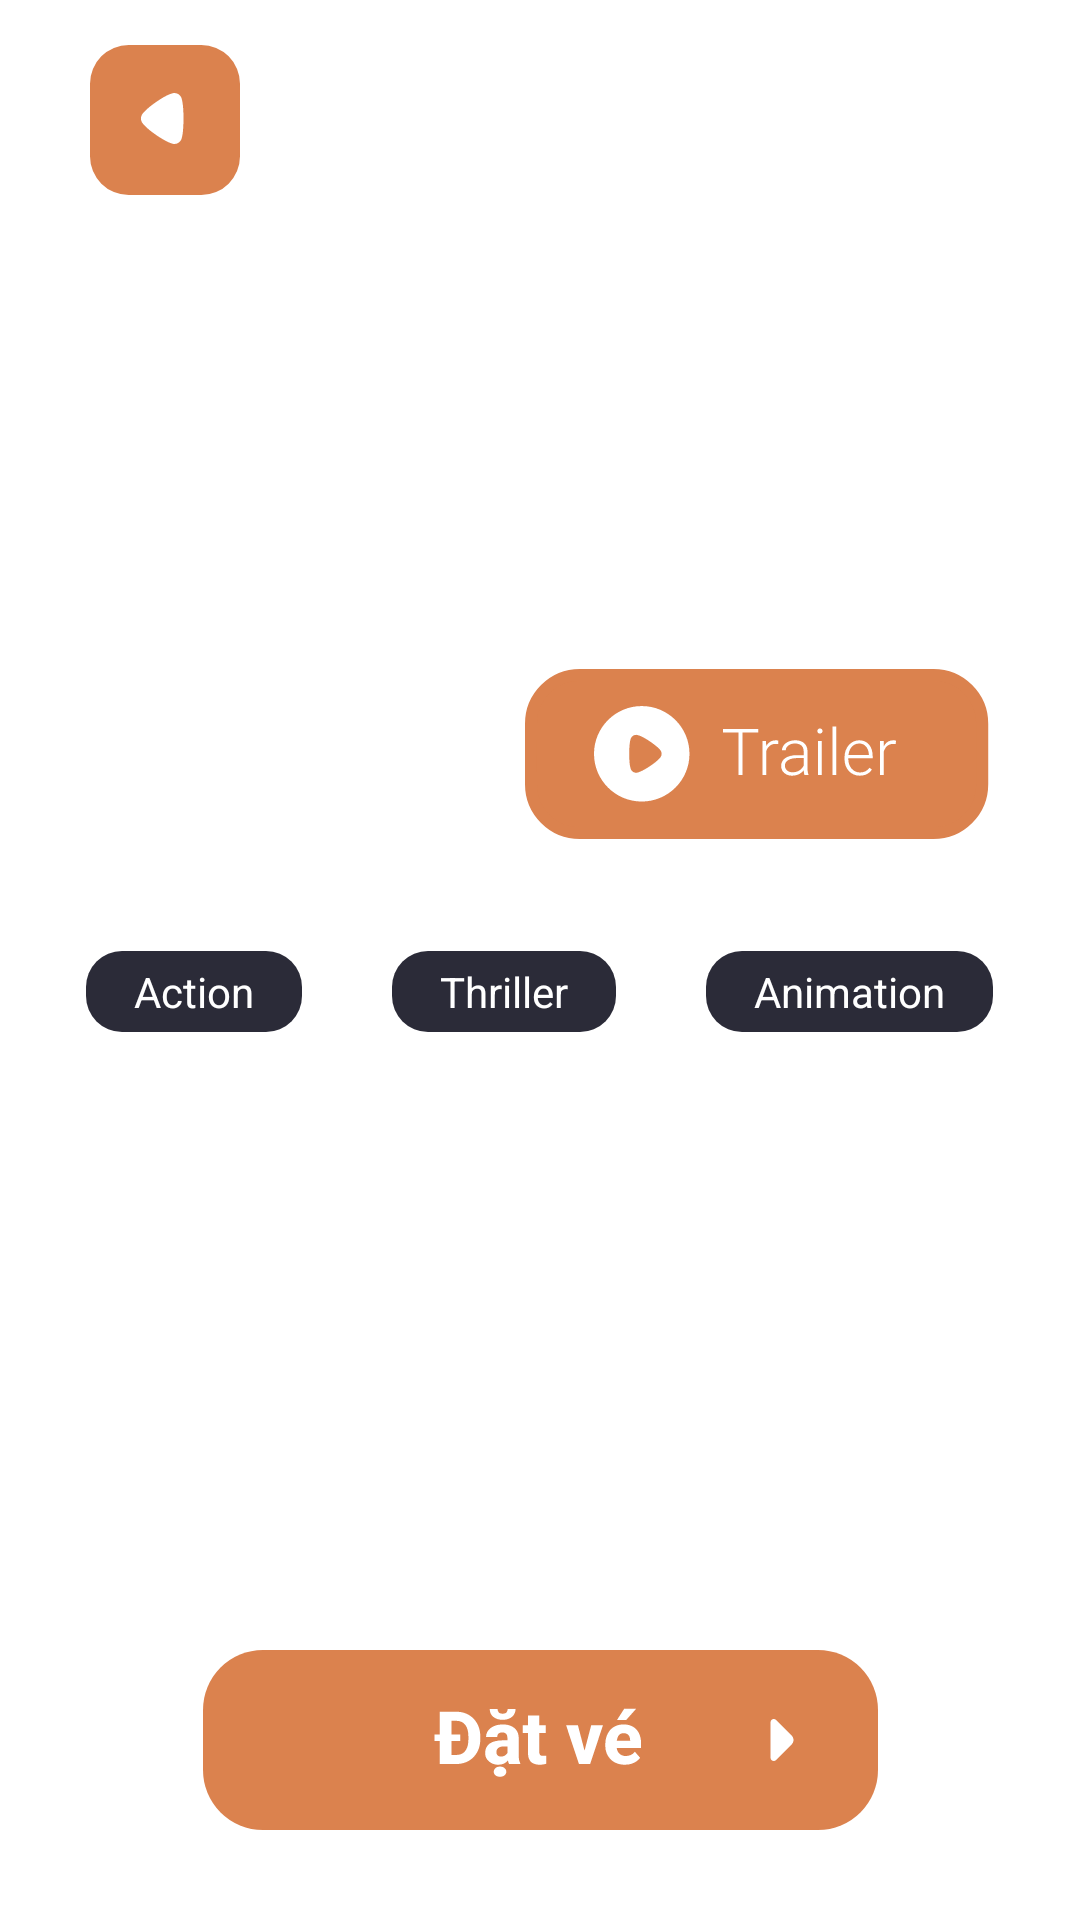

Icons on this 1080 x 1920 Android screen, each with the point to tap as point (x, y):
back: point (165, 120)
